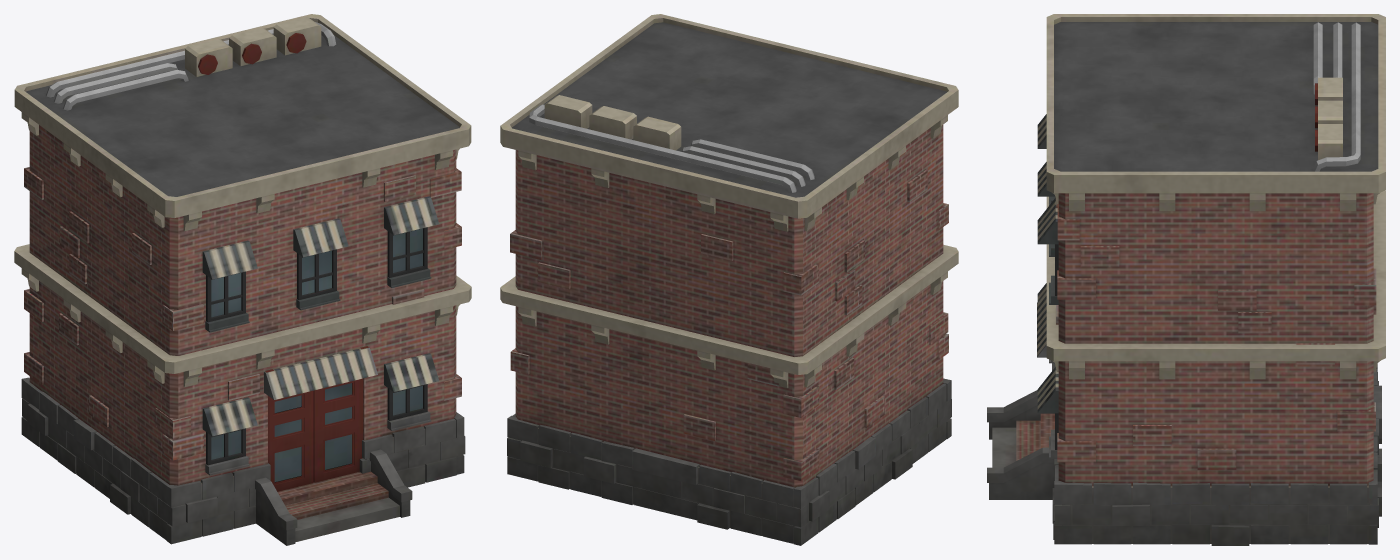
File: building_2Story_Double.glb
3 views of the same model, side by side, from view 1: azimuth 30°, elevation 25°; view 2: azimuth 150°, elevation 25°; view 3: azimuth 270°, elevation 25° (orthographic). The views are drawn at different scales.
Parts seen in each view (by area): view 1: 2Story_Double_medium; view 2: 2Story_Double_medium; view 3: 2Story_Double_medium.
Part boxes in pixels (bbox=[...]): 2Story_Double_medium: bbox=[14, 14, 471, 545]; 2Story_Double_medium: bbox=[500, 14, 958, 545]; 2Story_Double_medium: bbox=[987, 14, 1385, 545].
Size of the model in its own units: 2.42 by 2.75 by 2.53.
Materials: 2 (2 with a texture image).
